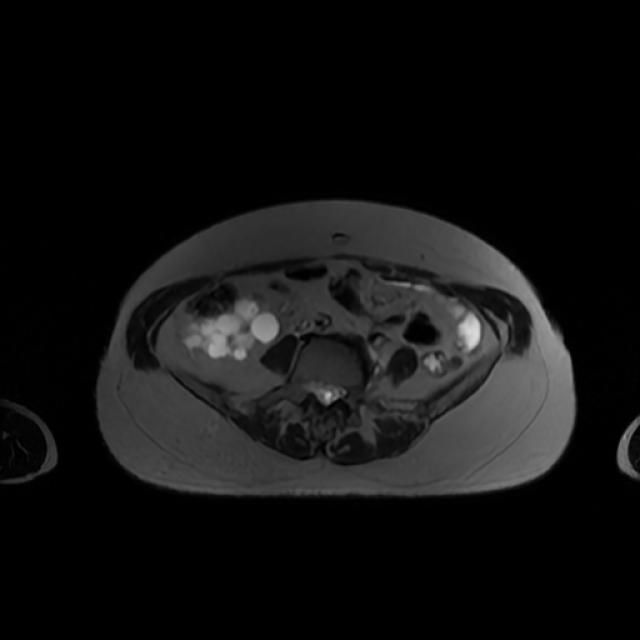sag: (177, 299, 278, 363)
